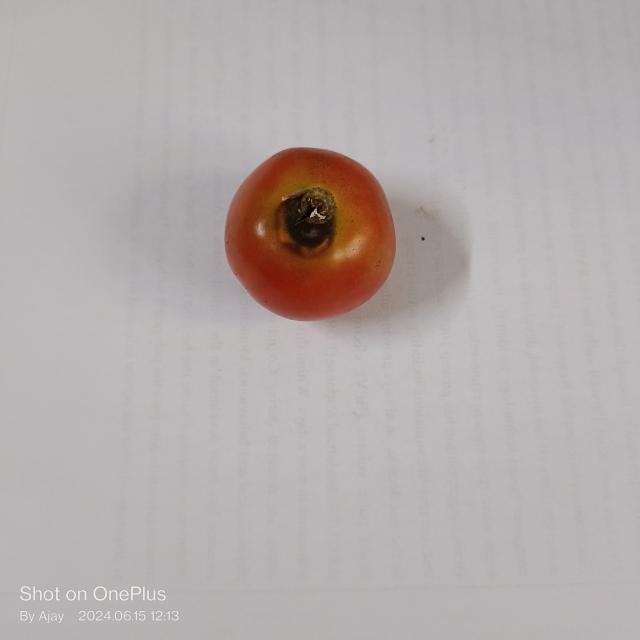Anthrocnose: (272, 184, 338, 256)
